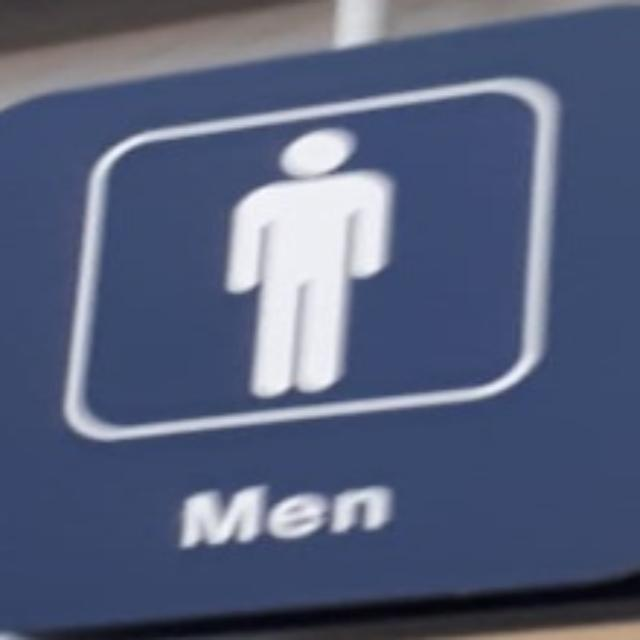mens_restroom: (0, 9, 637, 628)
